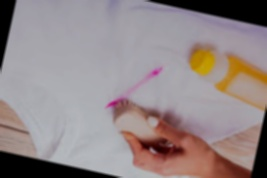lipstick: (145, 62, 164, 82), (107, 93, 123, 112), (129, 83, 139, 95)
